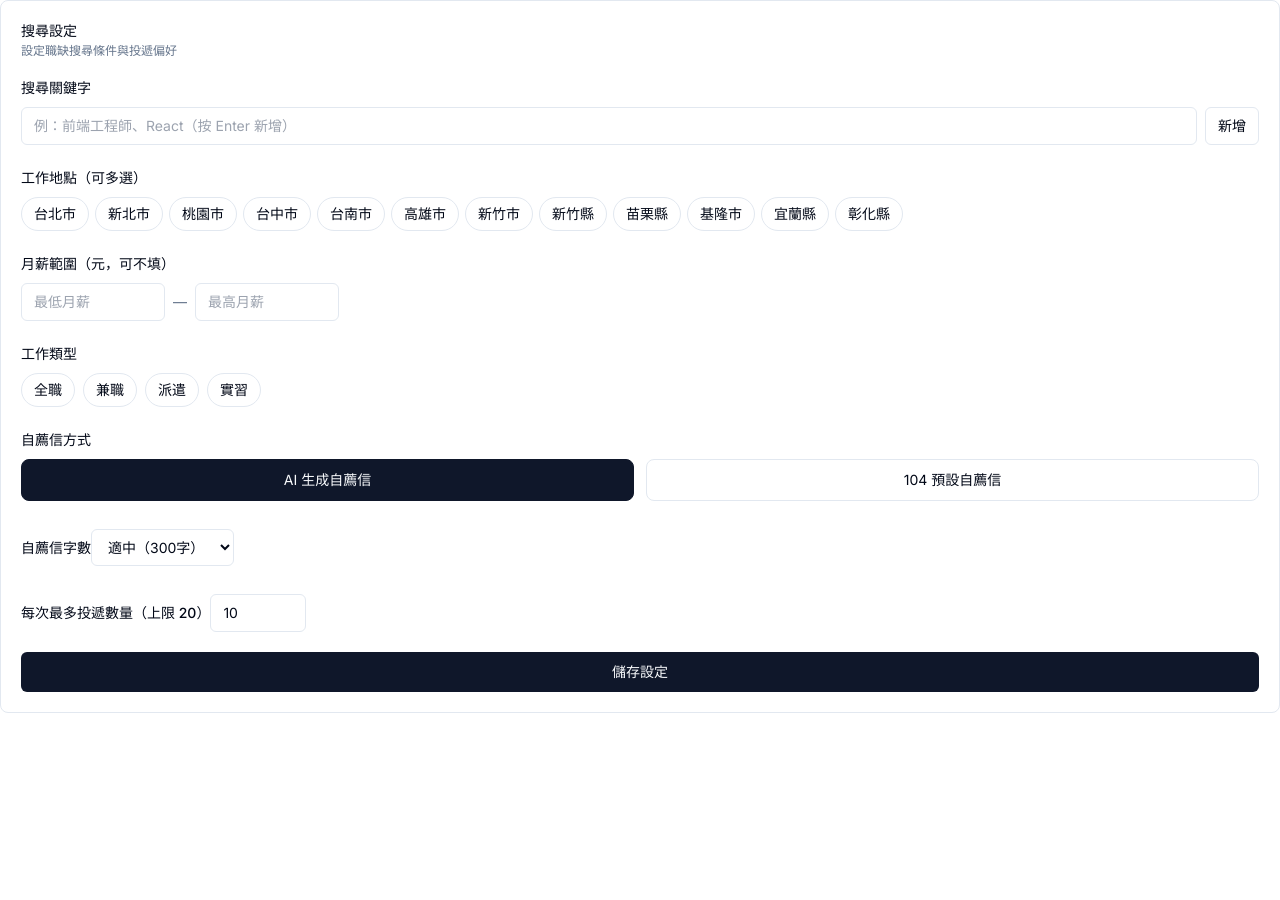
Test case: SearchConfigForm — 切換縣市後全選狀態重置 › 取消選擇台北市後，台北市行政區 DOM 被移除（全選狀態清空）
What coordinates should you click on to do the following:
click the button "台北市"
I would click on:
 (55, 214)
Its box is [21,197,89,231].
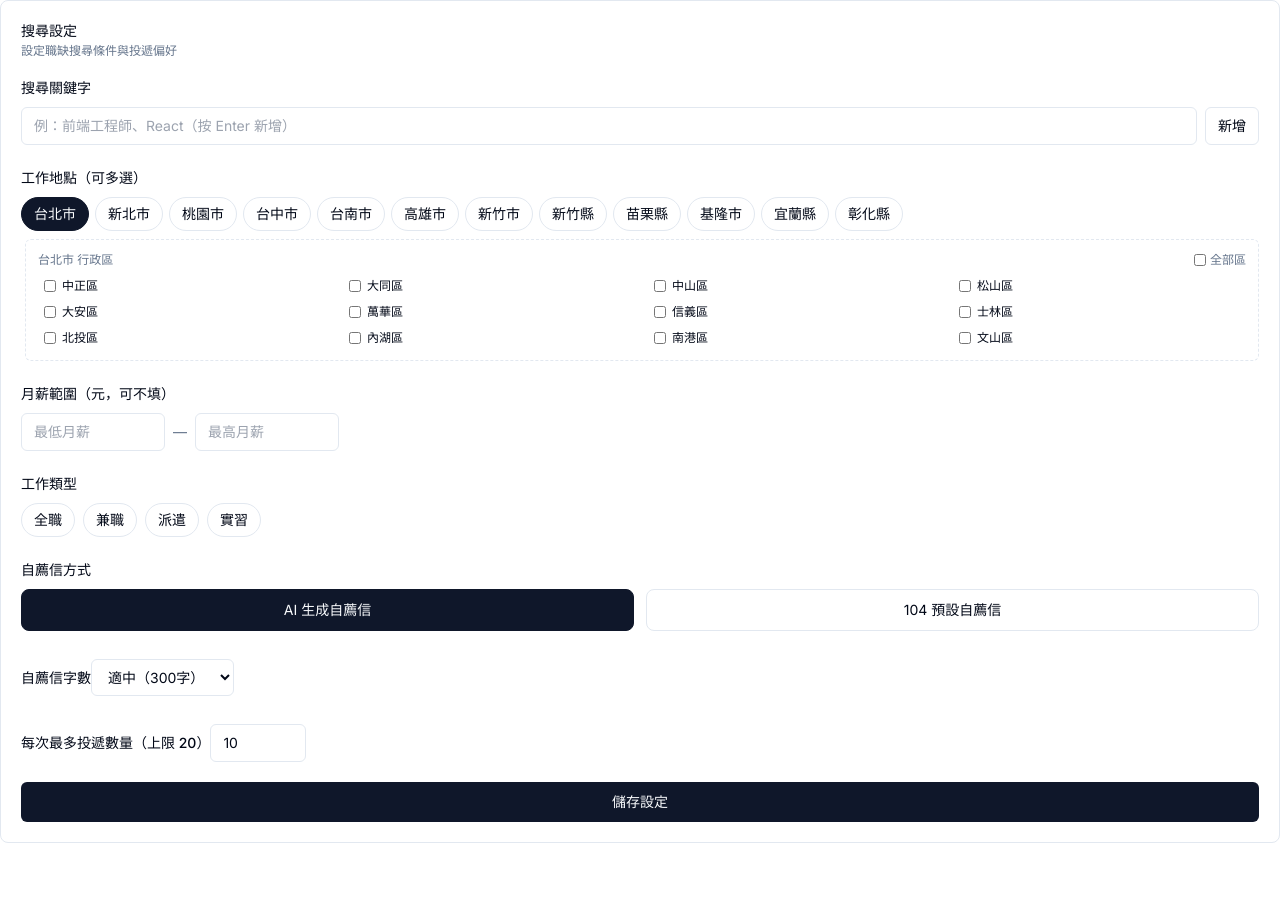
What coordinates should you click on to do the following:
click the checkbox with test id "select-all-checkbox-台北市"
I would click on:
 (1200, 260)
Its box is [1194,254,1206,266].
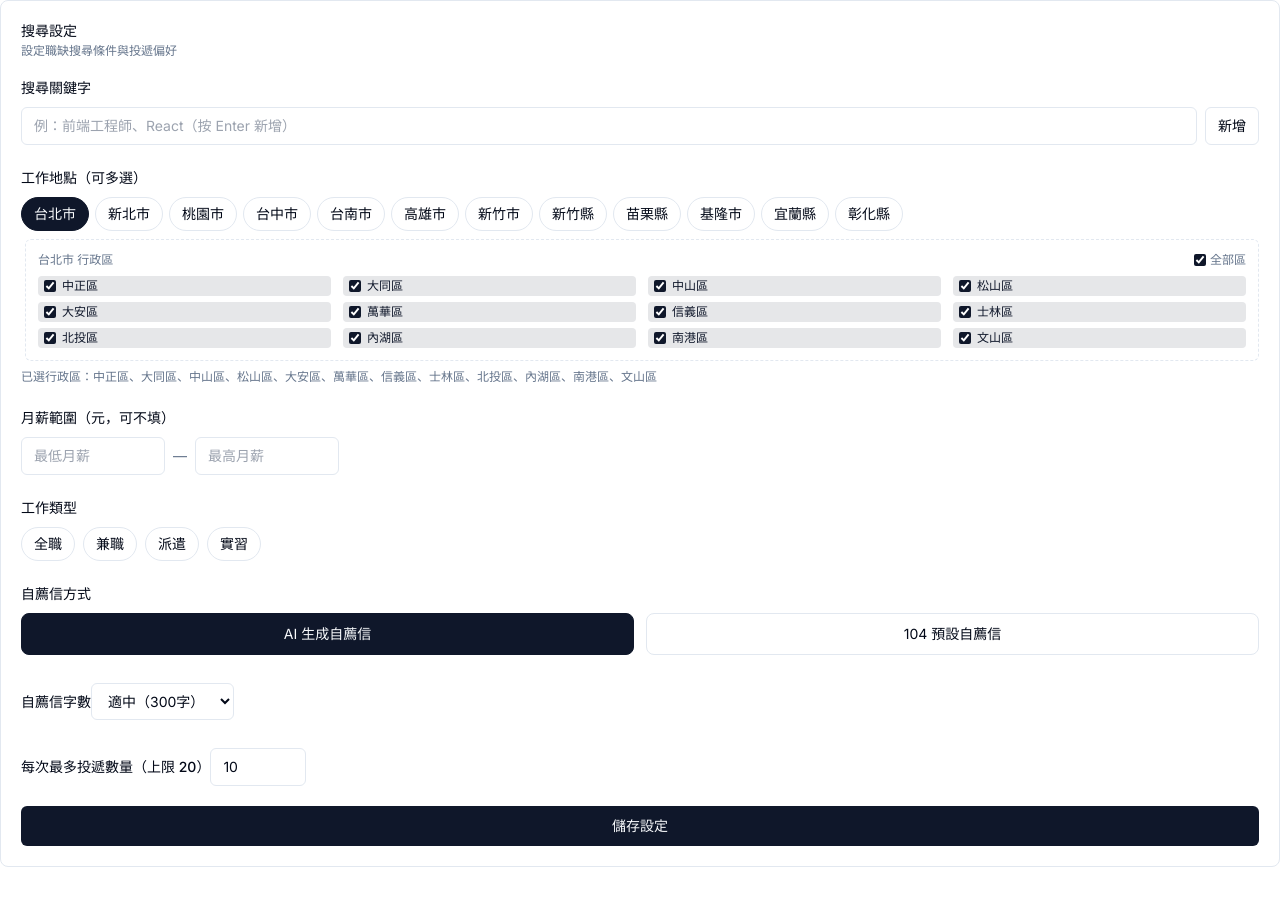
What coordinates should you click on to do the following:
click the button "台北市"
I would click on:
 (55, 214)
Its box is [21,197,89,231].
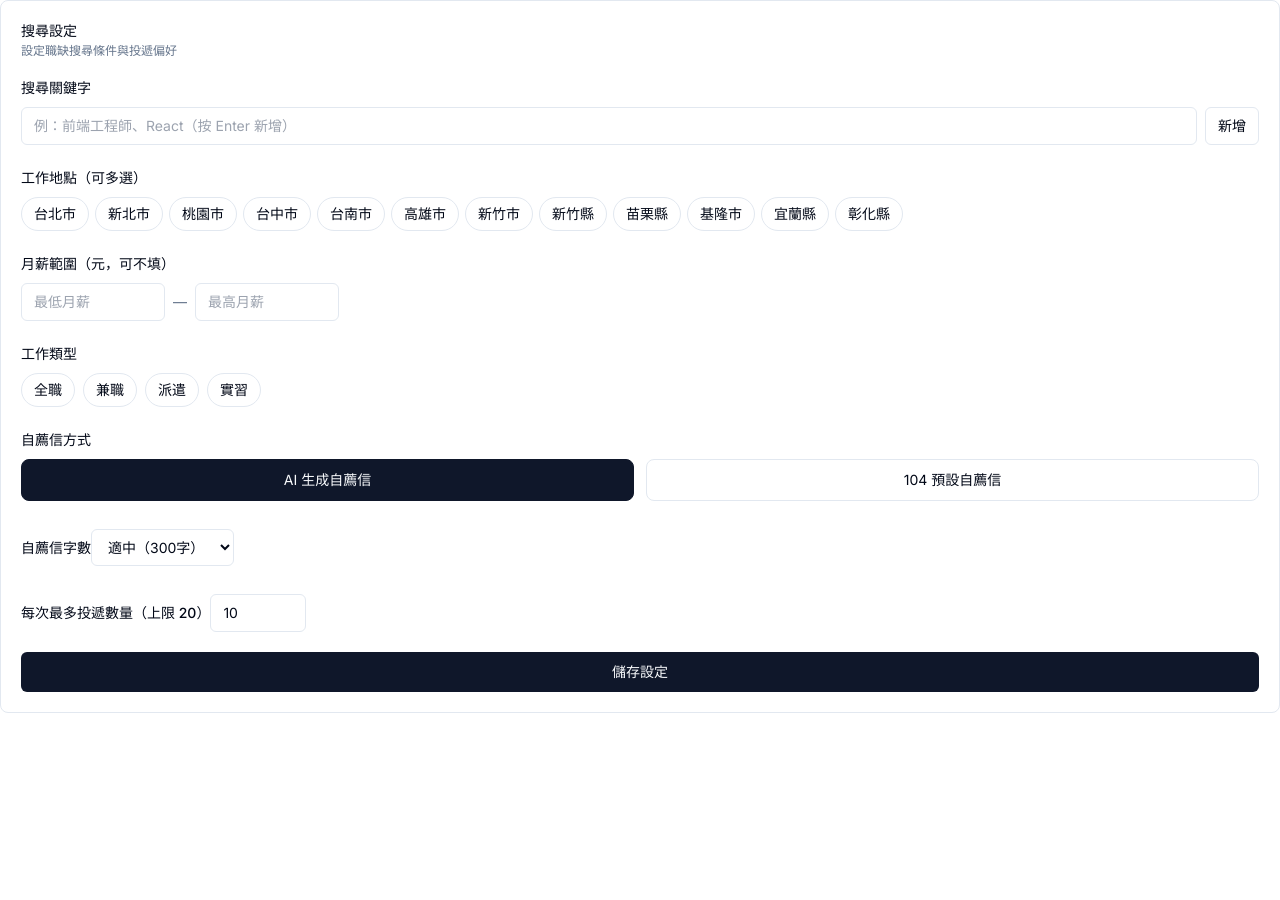
Expected: the checkbox with test id "select-all-checkbox-台北市" is gone
